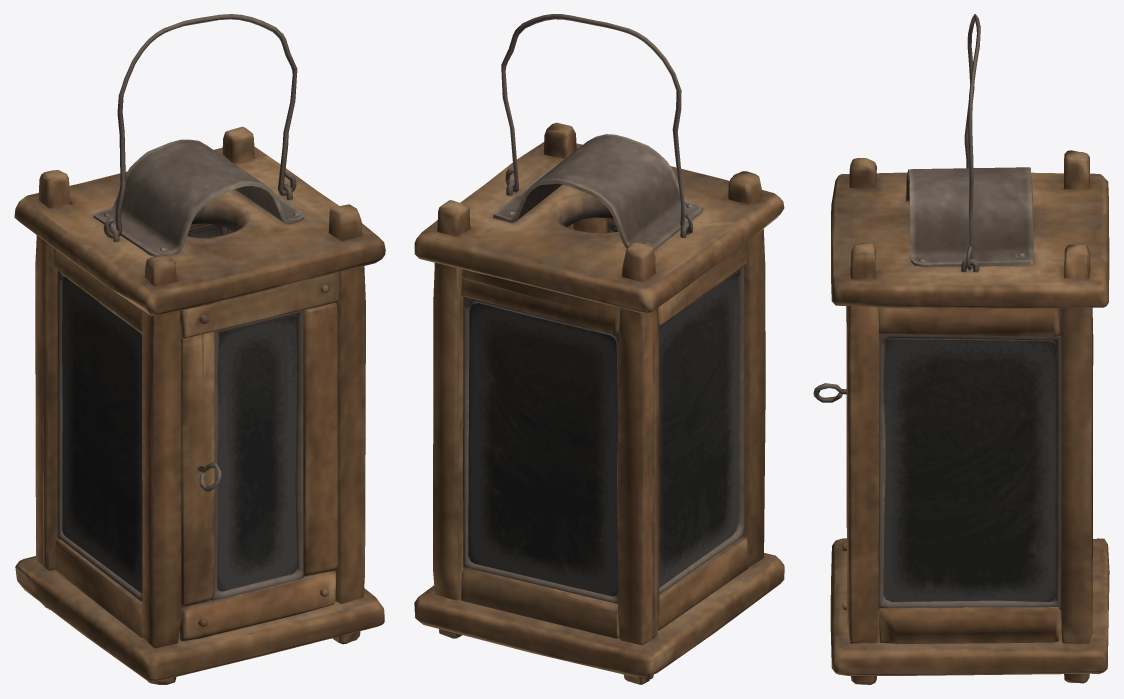
File: wooden_lantern_01.glb
The picture shows the model from 3 angles, left to right: view 1: azimuth 30°, elevation 25°; view 2: azimuth 150°, elevation 25°; view 3: azimuth 270°, elevation 25°; orthographic projection.
Visible parts, largest first — view 1: wooden_lantern_01, wooden_lantern_01_door, wooden_lantern_01_handle; view 2: wooden_lantern_01, wooden_lantern_01_handle, wooden_lantern_01_door; view 3: wooden_lantern_01, wooden_lantern_01_handle, wooden_lantern_01_door.
Boxes of the visible parts, box(x1,y1,x2,y2) form: wooden_lantern_01: box(14, 126, 385, 684); wooden_lantern_01_door: box(178, 272, 339, 641); wooden_lantern_01_handle: box(103, 14, 297, 238); wooden_lantern_01: box(414, 122, 784, 684); wooden_lantern_01_handle: box(501, 14, 692, 234); wooden_lantern_01_door: box(573, 217, 617, 233); wooden_lantern_01: box(830, 150, 1109, 684); wooden_lantern_01_handle: box(964, 14, 980, 270); wooden_lantern_01_door: box(813, 306, 847, 624).
Bounding box in the file's own units: 0.2211 × 0.5301 × 0.2347.
Materials: 2 (2 with a texture image).
